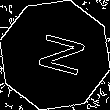N_W: (25, 29, 85, 81)
